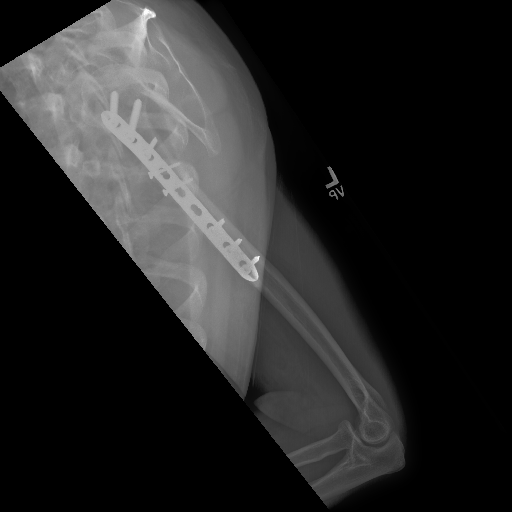implant: (102, 91, 263, 284)
